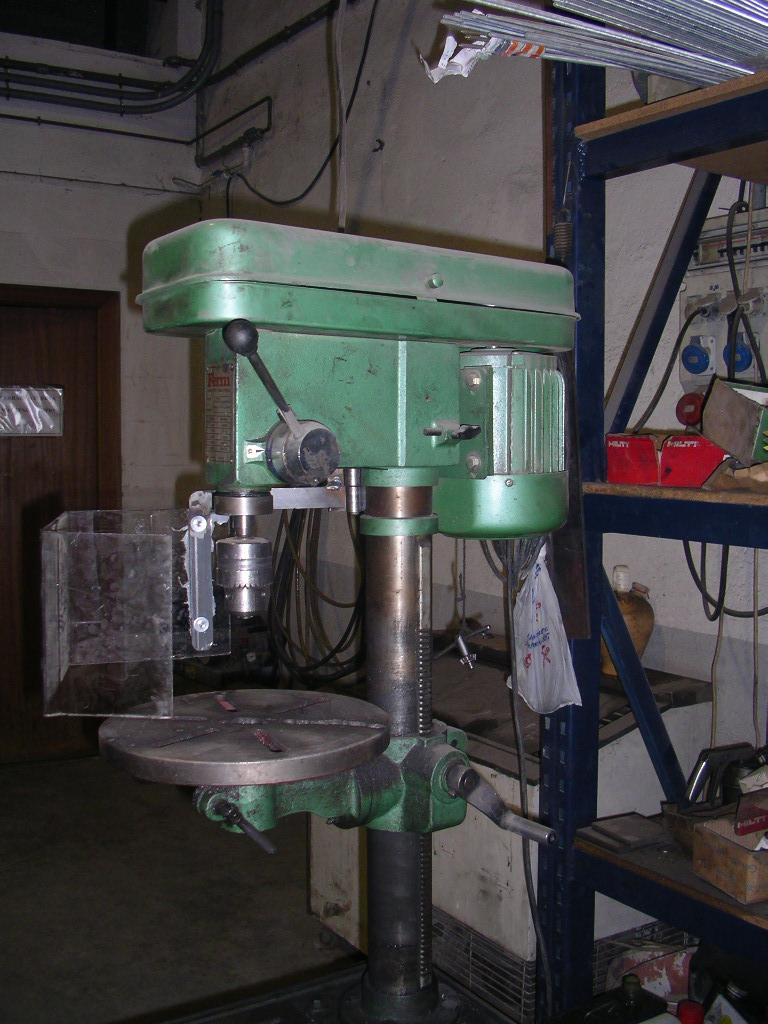falta_resguardo: (207, 484, 279, 624)
sin_senalizacion_riesgos: (308, 344, 388, 415)
